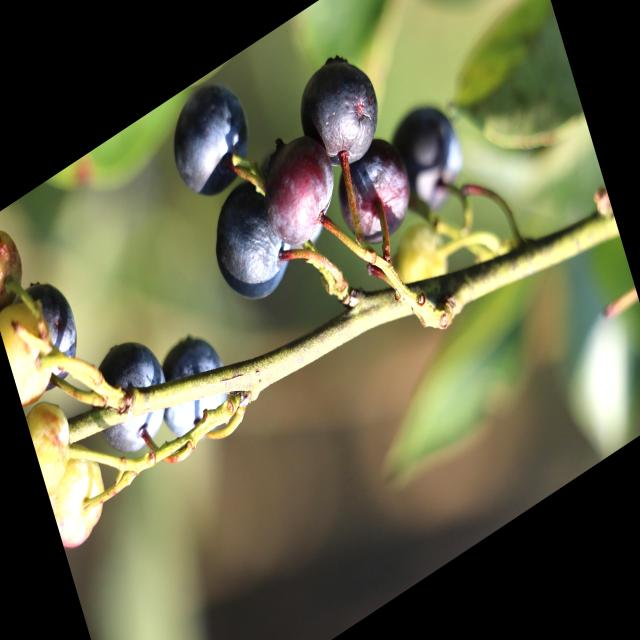blueberry: (200, 159, 306, 322), (76, 317, 184, 476), (286, 31, 393, 189), (158, 65, 262, 217), (248, 114, 348, 262), (324, 118, 423, 264), (381, 84, 475, 230), (145, 314, 241, 454), (5, 263, 91, 403)
blueberry-unripe: (0, 292, 64, 410), (44, 447, 114, 554), (24, 387, 83, 489), (0, 214, 33, 317)
